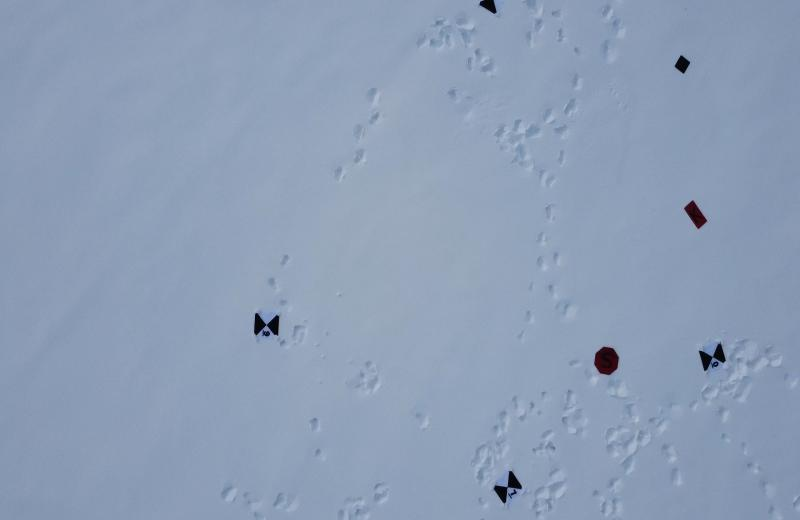Octagon: (592, 342, 623, 377)
Rectangle: (682, 199, 708, 238)
Square: (674, 54, 696, 78)
